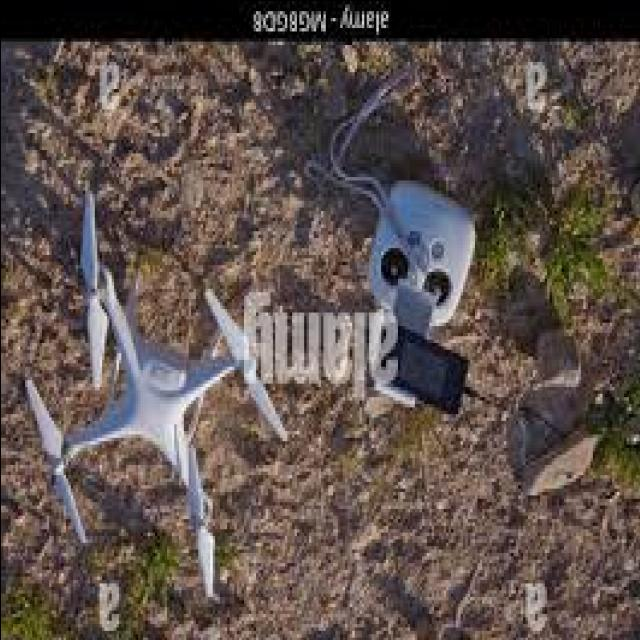drone: (7, 199, 290, 583)
